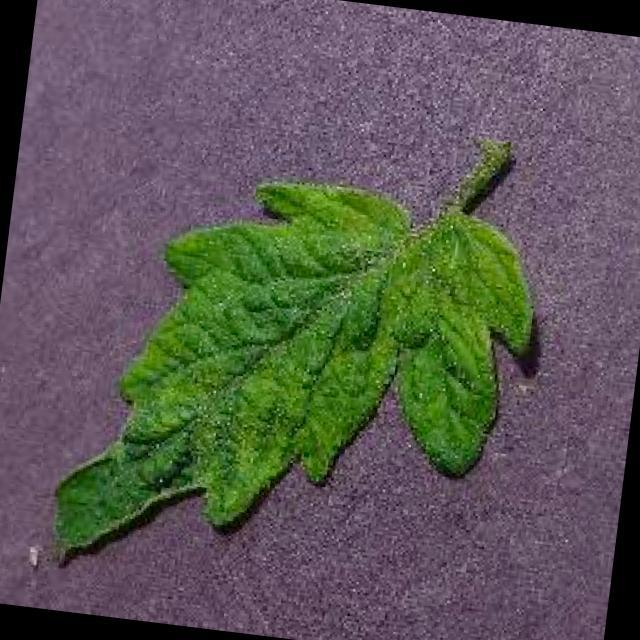Tomato mosaic virus leaf: (42, 152, 550, 620)
